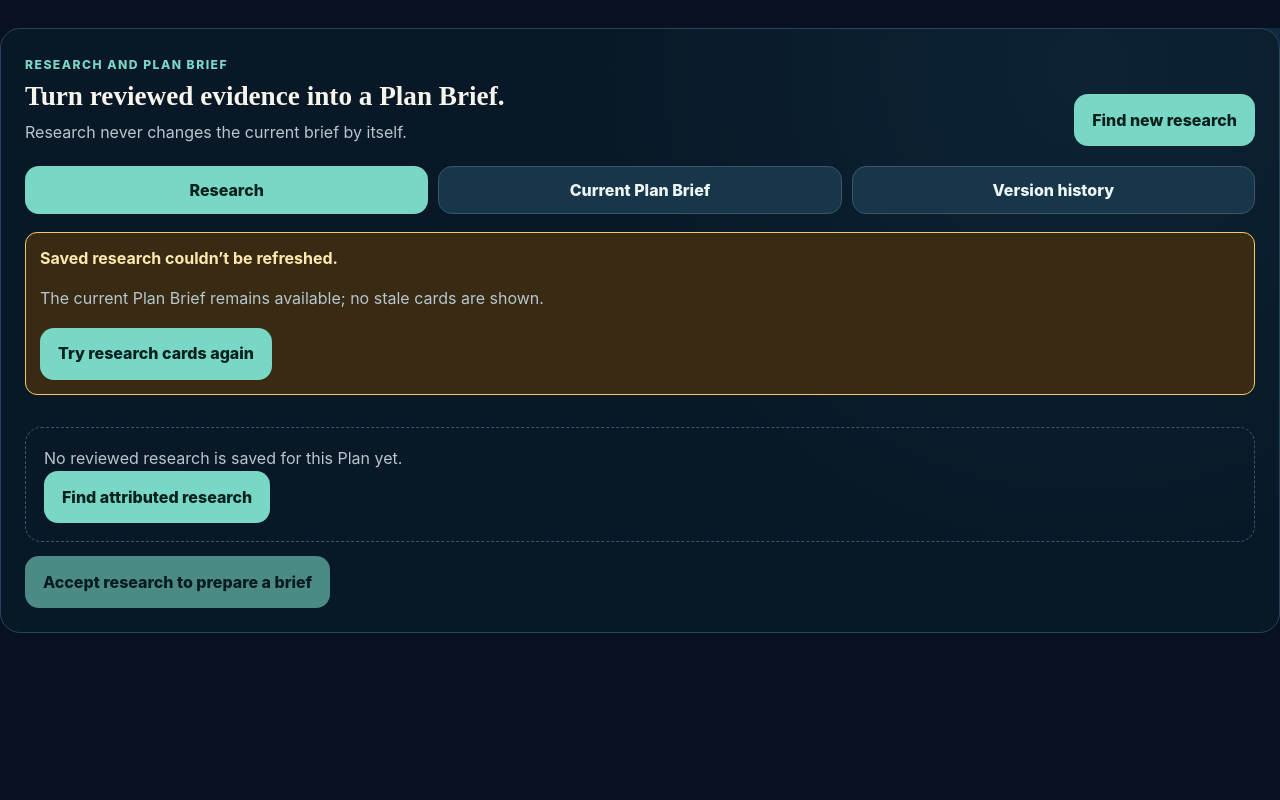
Test case: PlanMemorySection › keeps research and brief read failures isolated
This screenshot has width=1280, height=800.
expect the text "Saved research couldn’t be refreshed." is shown: met, box [40,248,338,268]
Click the tab "Current Plan Brief": (640, 190) [438,166,842,214]
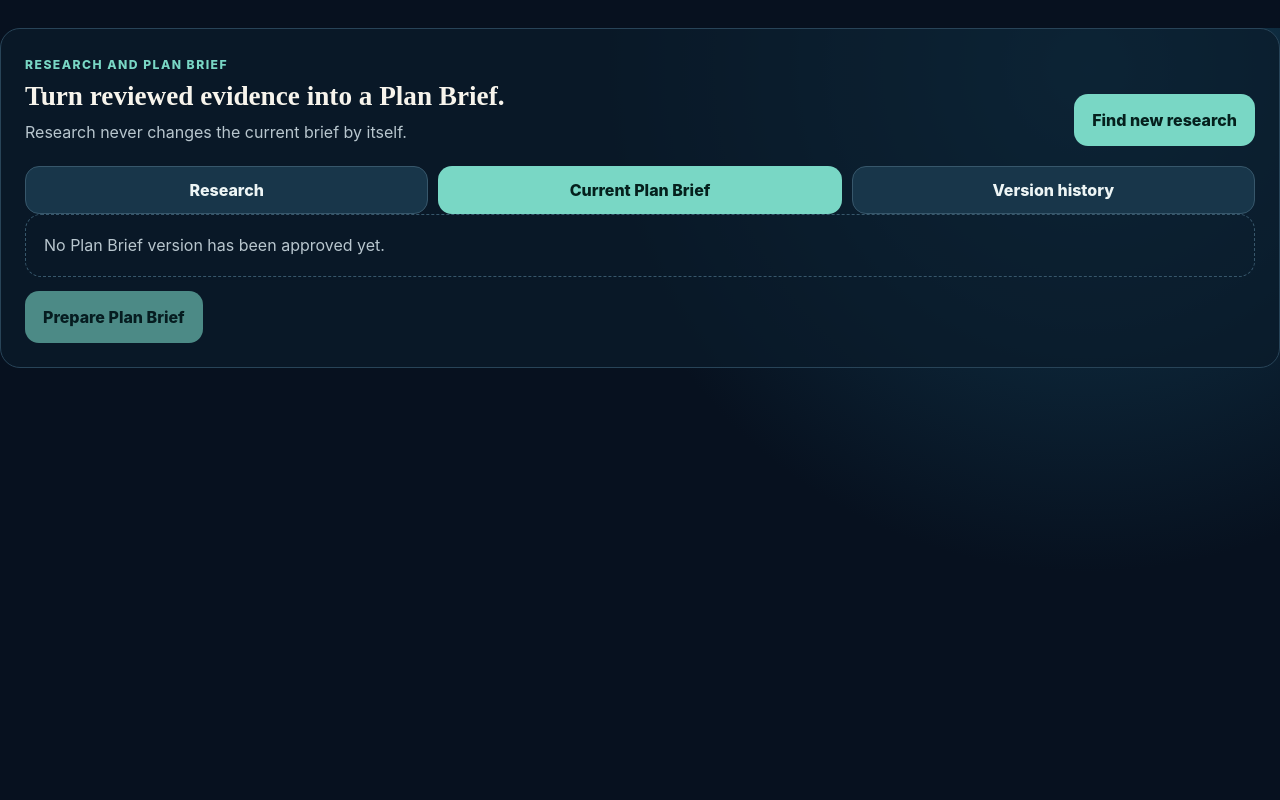
expect the text "No Plan Brief version has been approved yet." is shown: met, box [44,235,385,255]
